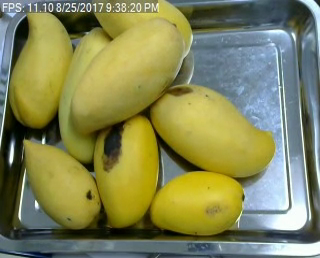Mango: (66, 18, 185, 134), (152, 80, 280, 182), (9, 5, 78, 132), (84, 119, 158, 229), (20, 134, 103, 232), (146, 168, 247, 240), (89, 3, 199, 59)
